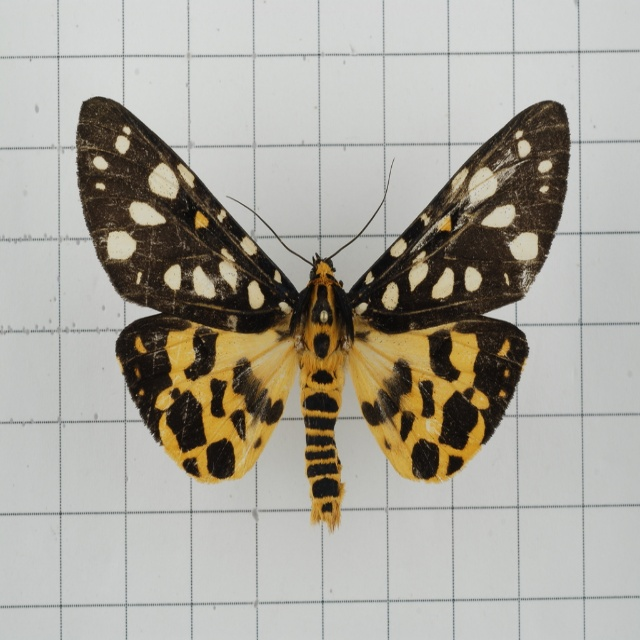Butterfly: (98, 95, 515, 545)
